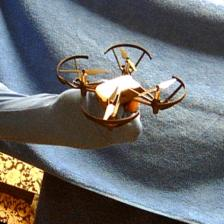drone: (56, 42, 186, 131)
